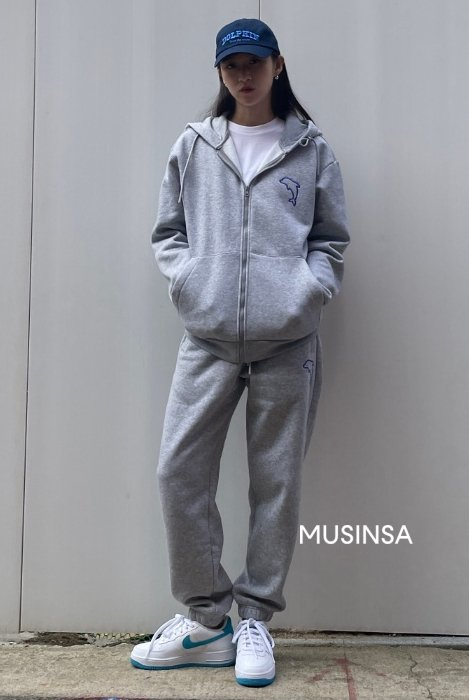Cap: (206, 16, 282, 61)
Outer: (146, 106, 355, 351)
Shoes: (112, 605, 279, 688)
Training pants: (153, 320, 332, 624)
